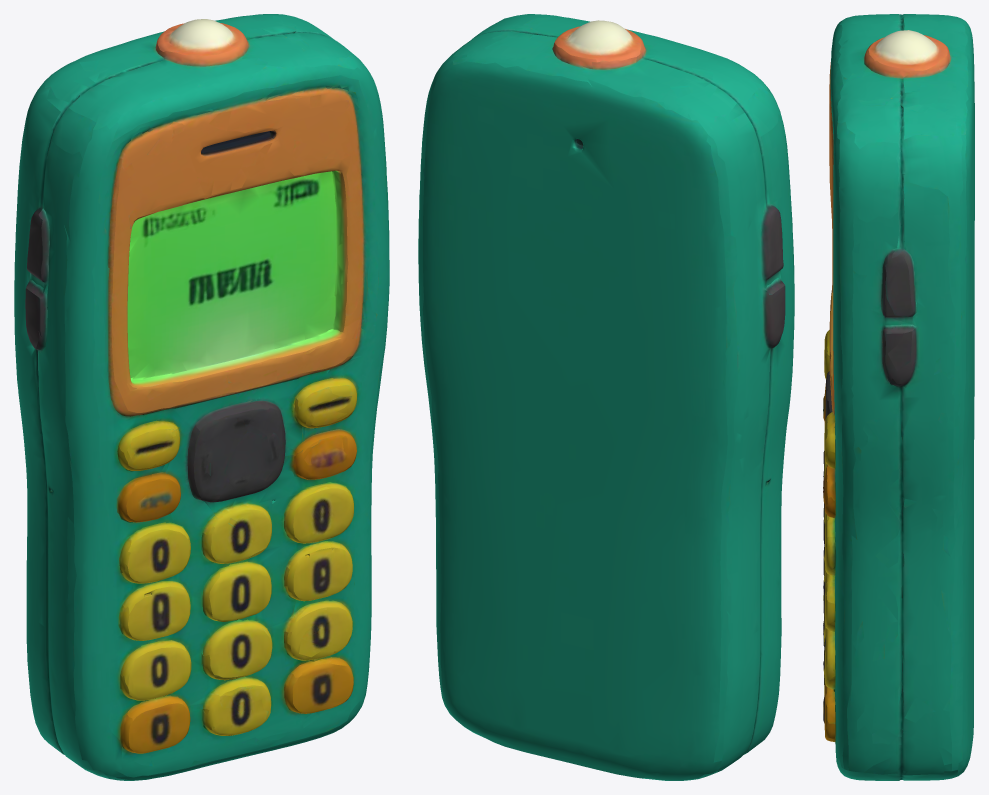
The model's file is torch_phone.glb.
3 renders of one model, left to right at view 1: azimuth 30°, elevation 25°; view 2: azimuth 150°, elevation 25°; view 3: azimuth 270°, elevation 25°, orthographic. The views are drawn at different scales.
Visible parts, largest first — view 1: geometry_0; view 2: geometry_0; view 3: geometry_0.
Boxes of the visible parts, x1=… form: geometry_0: x1=14, y1=14, x2=389, y2=780; geometry_0: x1=418, y1=14, x2=794, y2=780; geometry_0: x1=823, y1=14, x2=974, y2=780.
Bounding box in the file's own units: 0.13 × 0.264 × 0.0515.
Materials: 1 (1 with a texture image).
